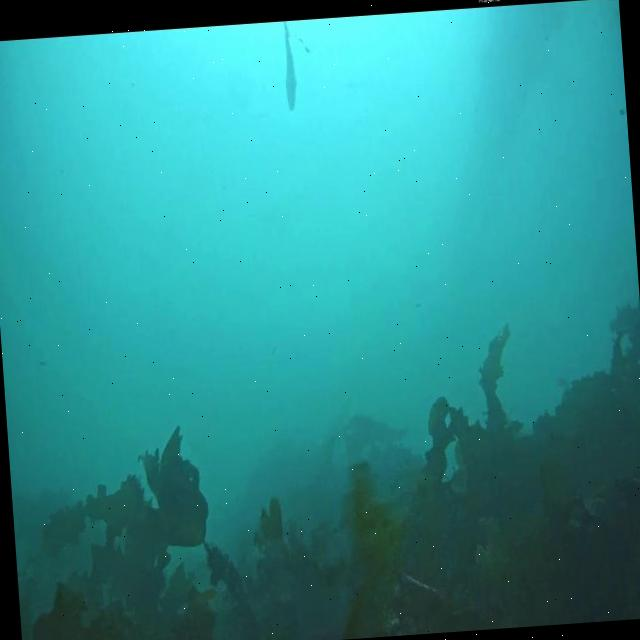fish: (280, 23, 299, 116)
